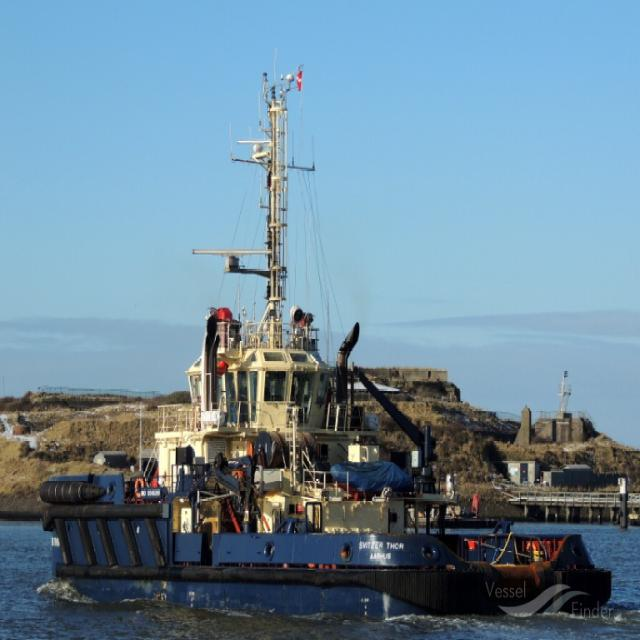tugboat: (37, 84, 612, 613)
